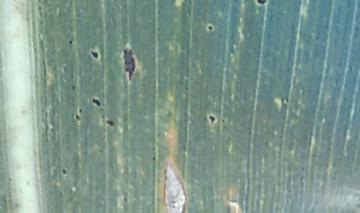tarspot: (121, 48, 136, 81), (89, 50, 100, 60), (91, 97, 102, 107), (106, 119, 115, 127), (208, 114, 215, 124), (257, 1, 268, 6), (70, 84, 77, 91), (122, 196, 129, 203), (61, 167, 67, 175), (207, 24, 213, 31), (68, 39, 74, 45), (151, 155, 157, 161), (75, 114, 80, 120), (221, 118, 226, 124), (78, 108, 83, 113)
